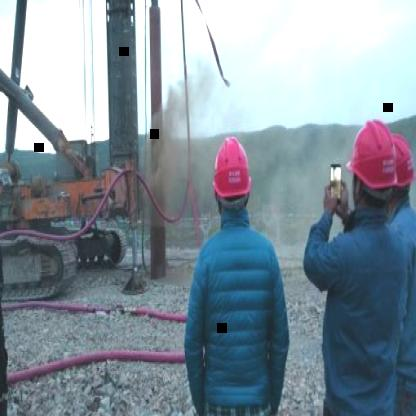helmet: (345, 109, 402, 198), (206, 128, 256, 211)
